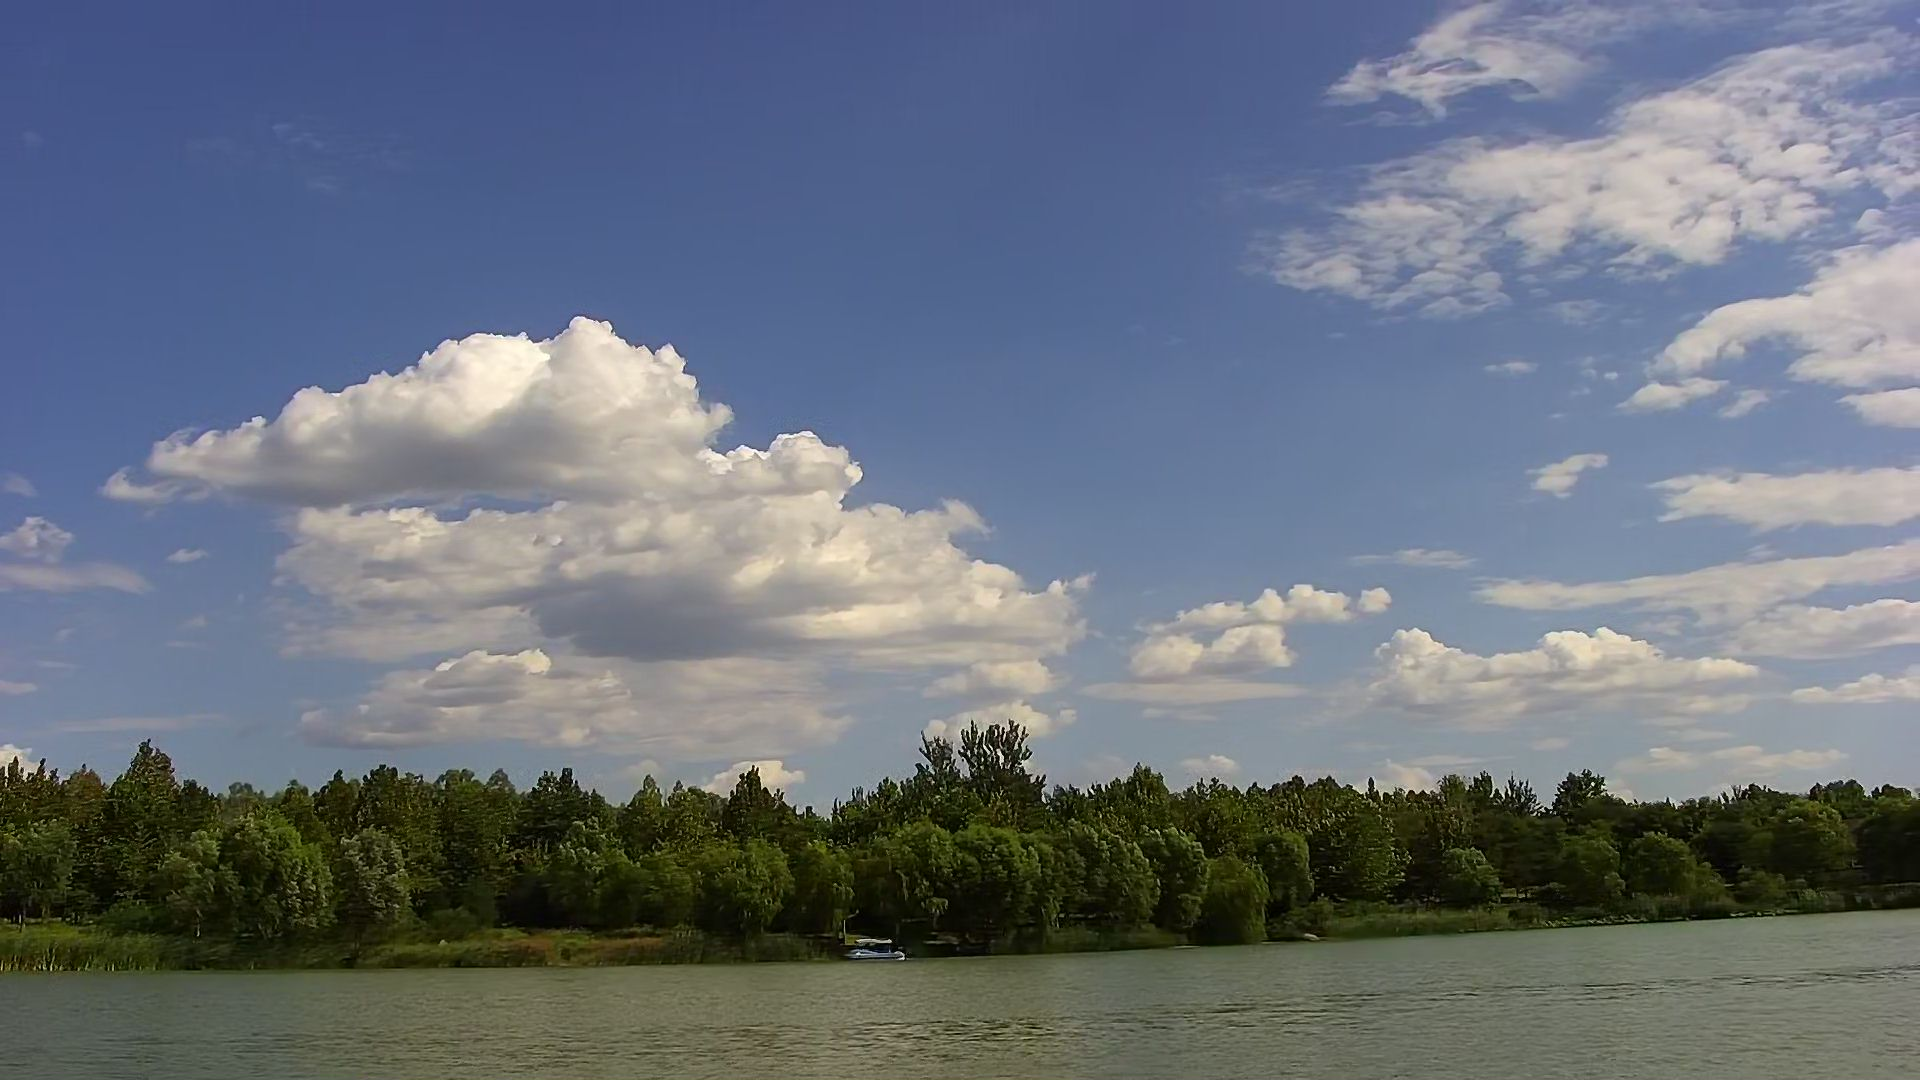boat: (843, 932, 909, 965)
